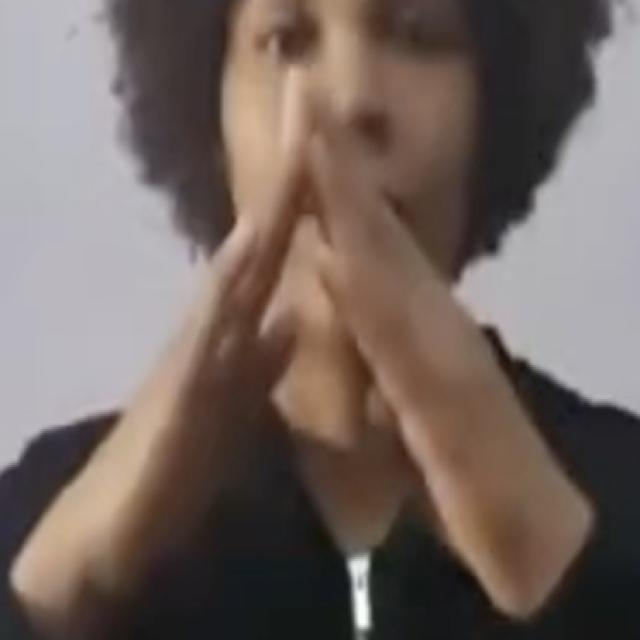casa: (41, 64, 588, 610)
